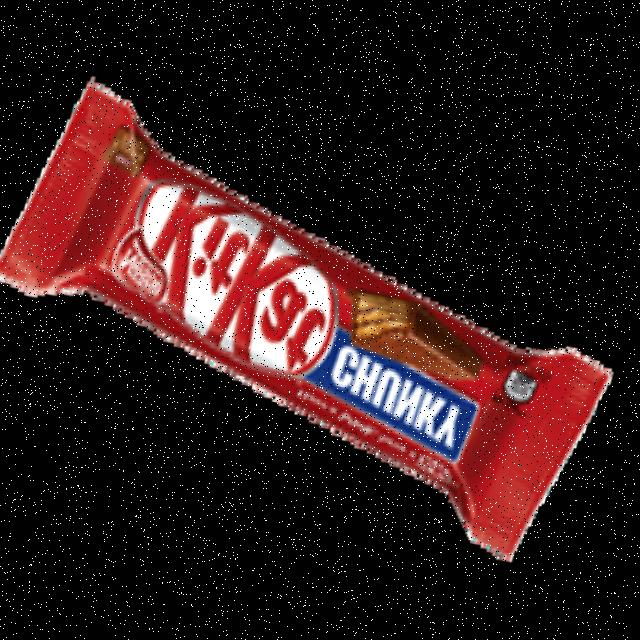kitkat: (0, 45, 638, 604)
